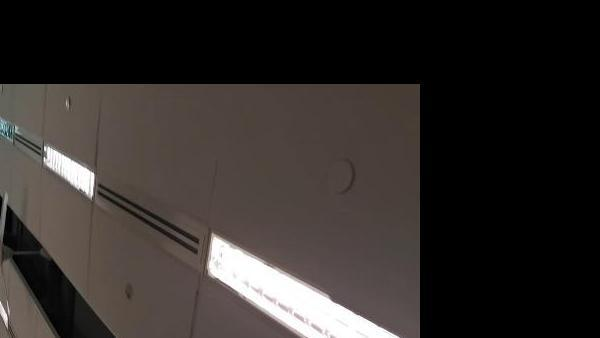light_on: (200, 226, 418, 338), (28, 133, 107, 204), (0, 279, 15, 330)
